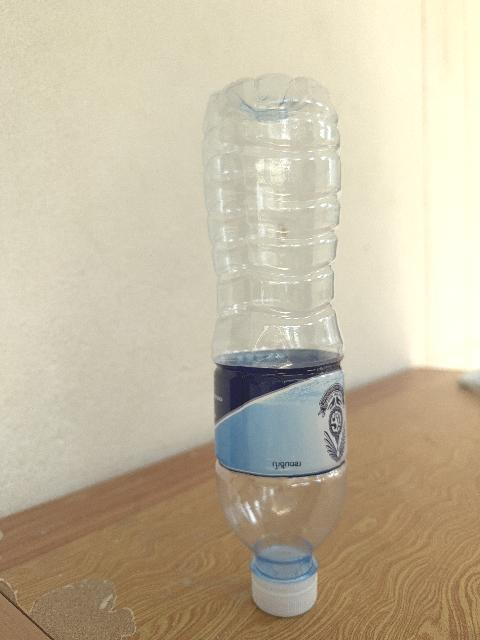bottle: (202, 75, 346, 616)
